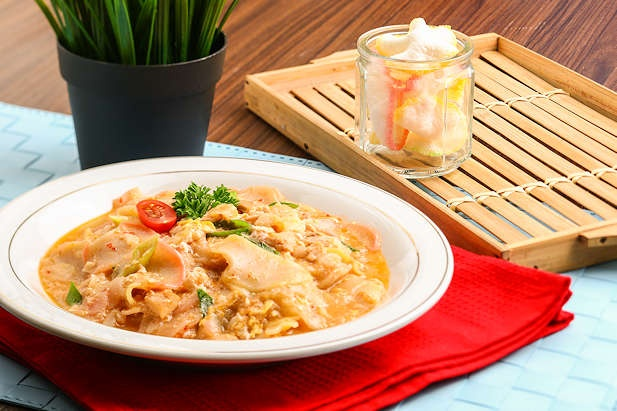seblak: (38, 184, 390, 339)
